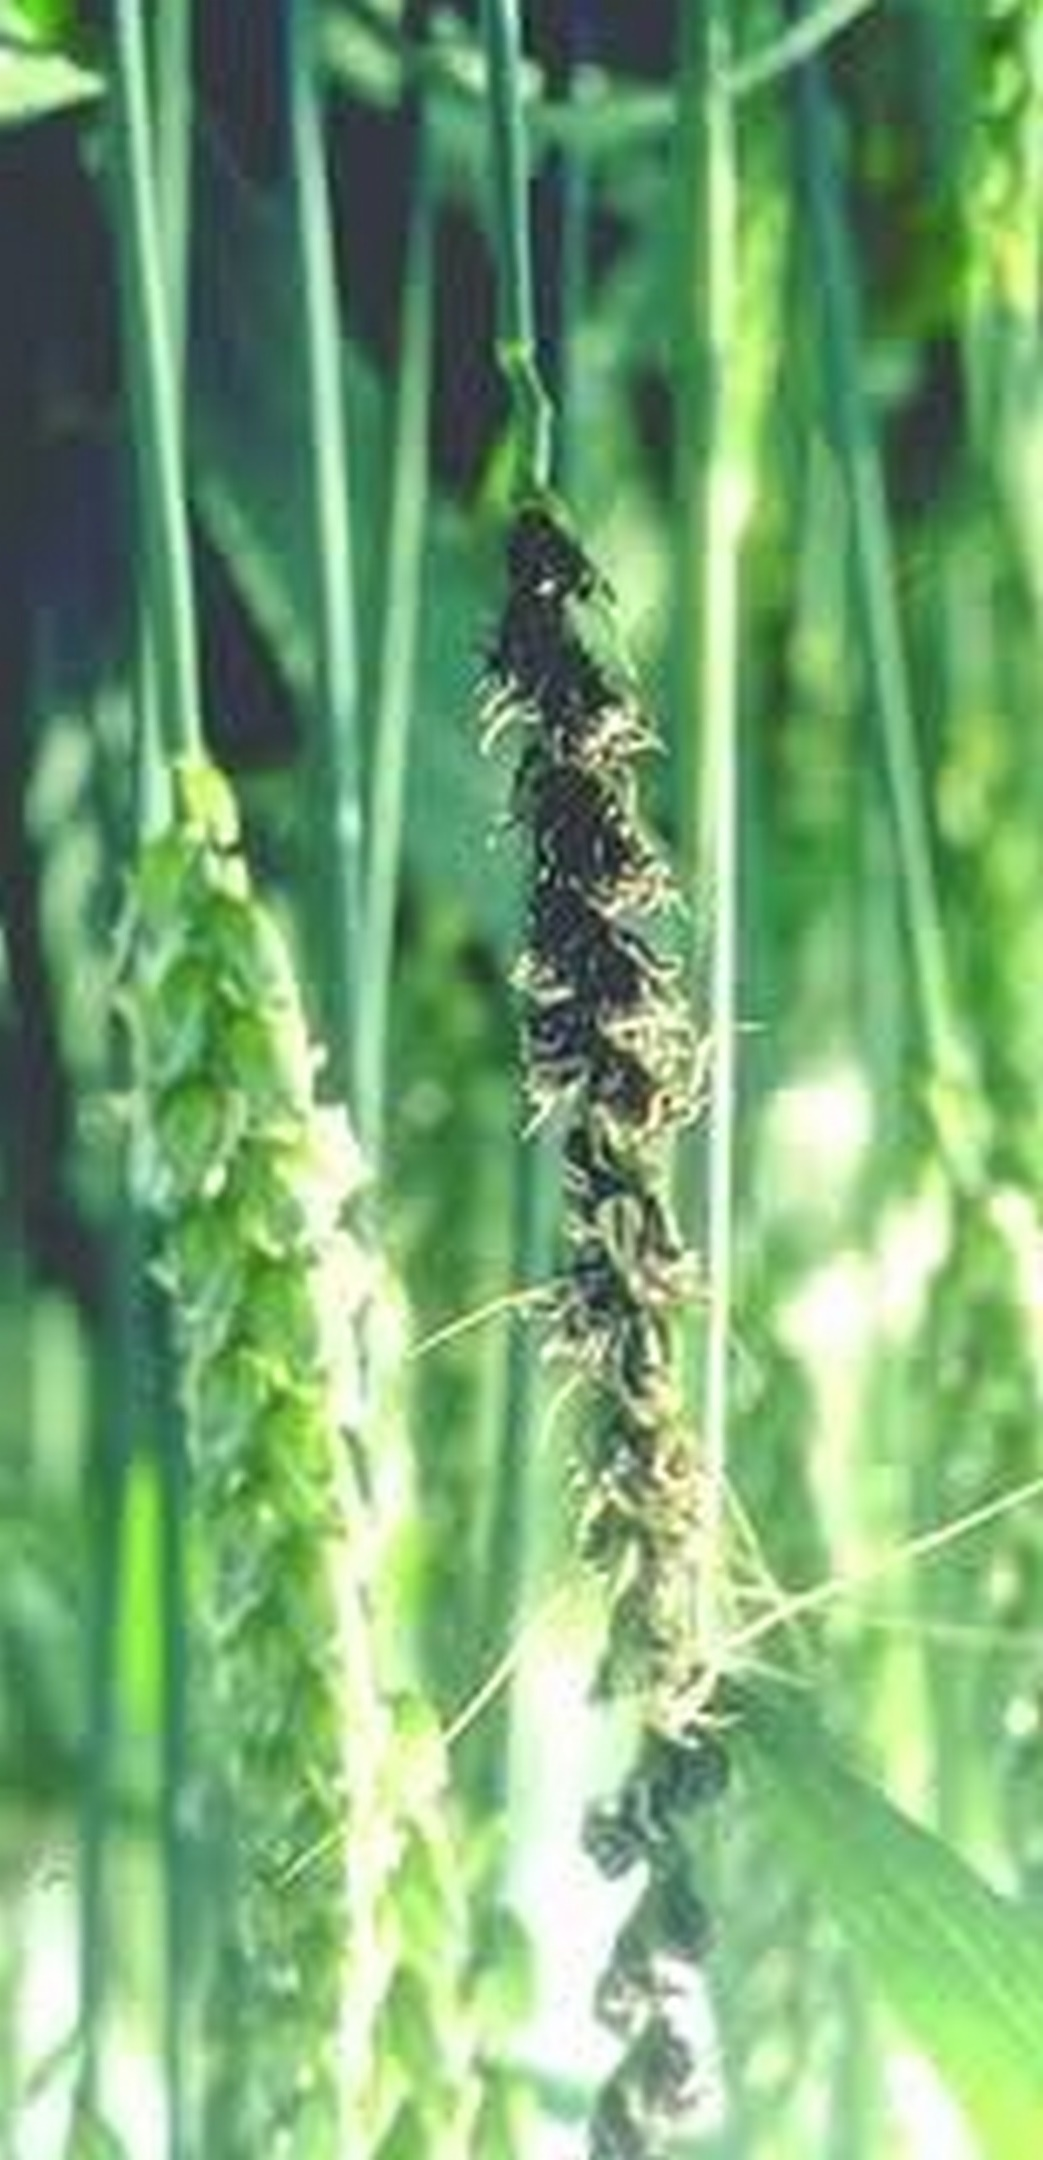Wheat Loose Smut: (462, 529, 813, 1770)
